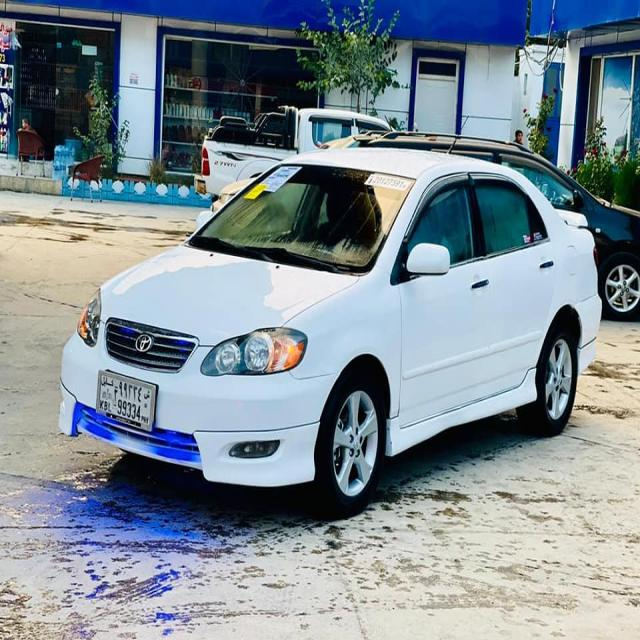Plate: (96, 370, 155, 430)
